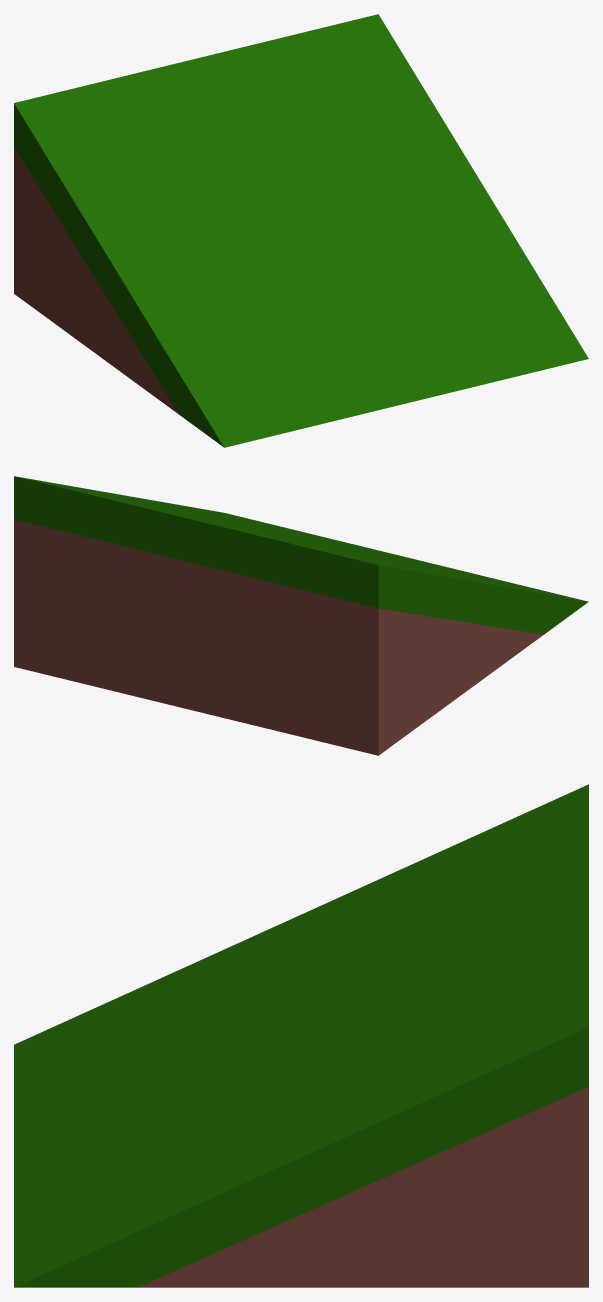
File: Plain_Grass_Slope.glb
The picture shows the model from 3 angles, top to bottom: view 1: azimuth 30°, elevation 25°; view 2: azimuth 150°, elevation 25°; view 3: azimuth 270°, elevation 25°; orthographic projection. The views are drawn at different scales.
Visible parts, largest first — view 1: Plain Grass Slope; view 2: Plain Grass Slope; view 3: Plain Grass Slope.
Boxes of the visible parts, x1,y1,x2,y2 form: Plain Grass Slope: (14, 14, 588, 447); Plain Grass Slope: (14, 476, 588, 755); Plain Grass Slope: (14, 784, 588, 1287).
Size of the model in its own units: 2 by 1 by 2.
1 material, 1 textured.
